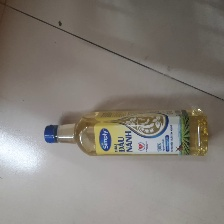Simply: (42, 106, 210, 158)
